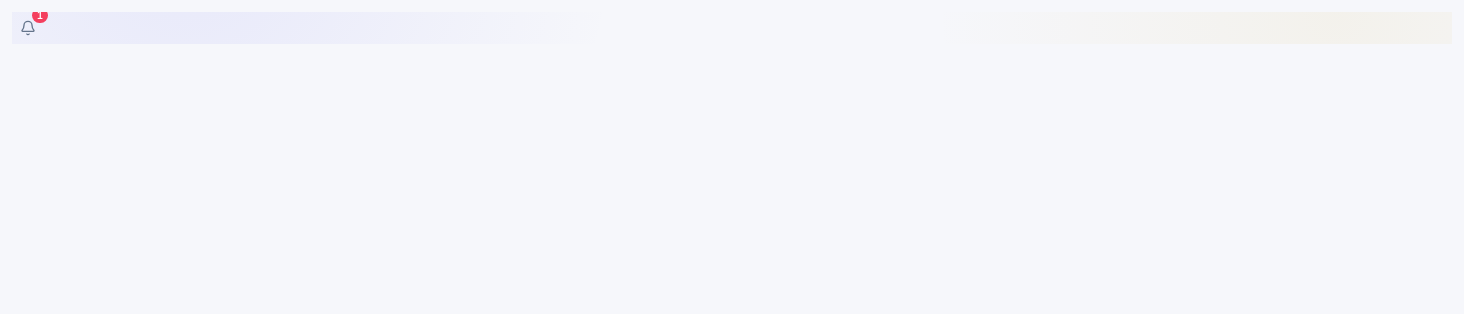
Test case: NotificationBell › shows the unread badge and opens the message list
This screenshot has width=1464, height=314.
Click the button named "消息中心，1 条未读".
click(28, 28)  # box [12, 12, 44, 44]
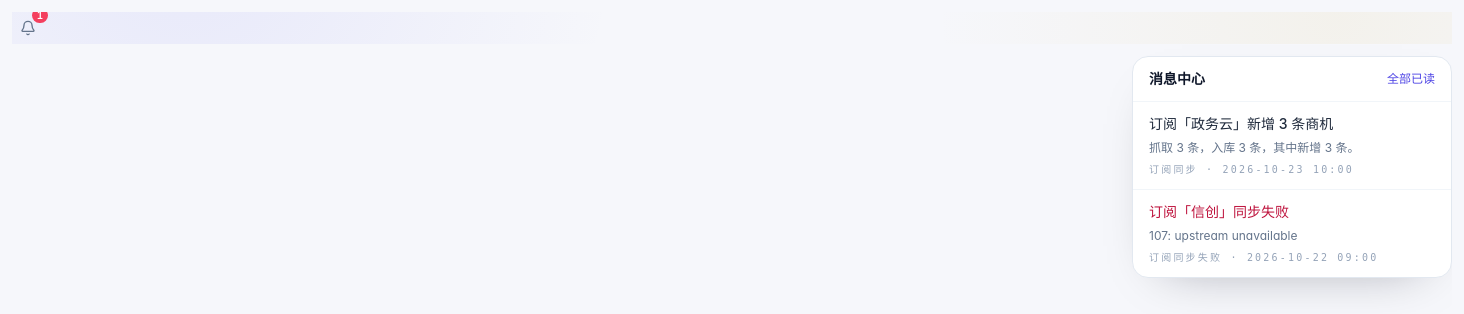
Check: the text "订阅「政务云」新增 3 条商机" is shown, box [1149, 115, 1333, 132]
Check: the text "107: upstream unavailable" is shown, box [1149, 228, 1298, 243]
Check: the text "订阅同步失败 · 2026-10-22 09:00" is shown, box [1149, 252, 1378, 263]
